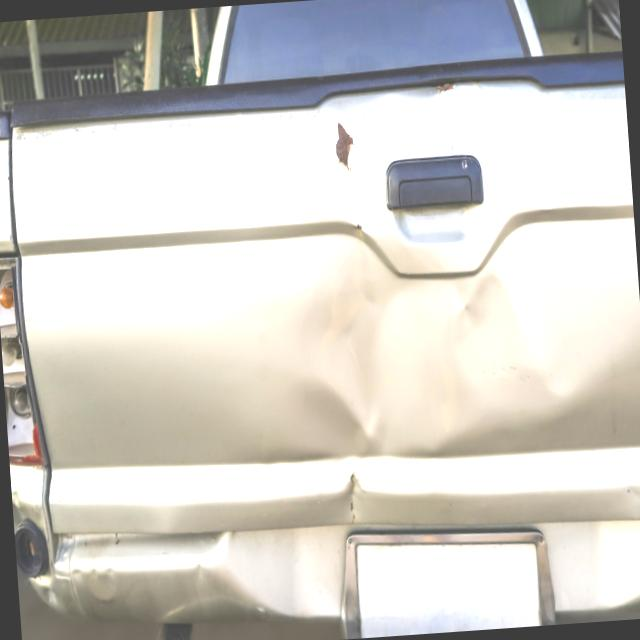Cabossage: (55, 512, 256, 631), (378, 85, 481, 158)
Phare abime: (0, 260, 45, 463)
Rayure: (327, 115, 358, 178)
